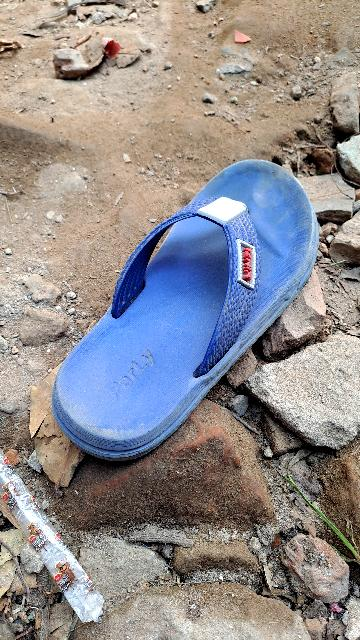sandal: (40, 138, 337, 466)
